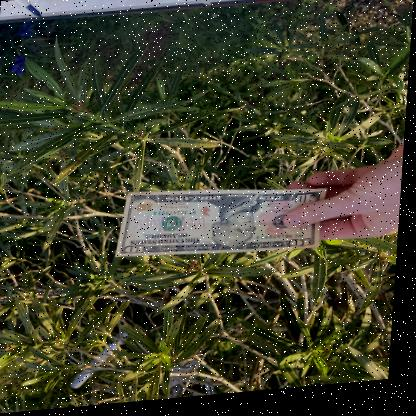ten-front: (115, 189, 321, 254)
